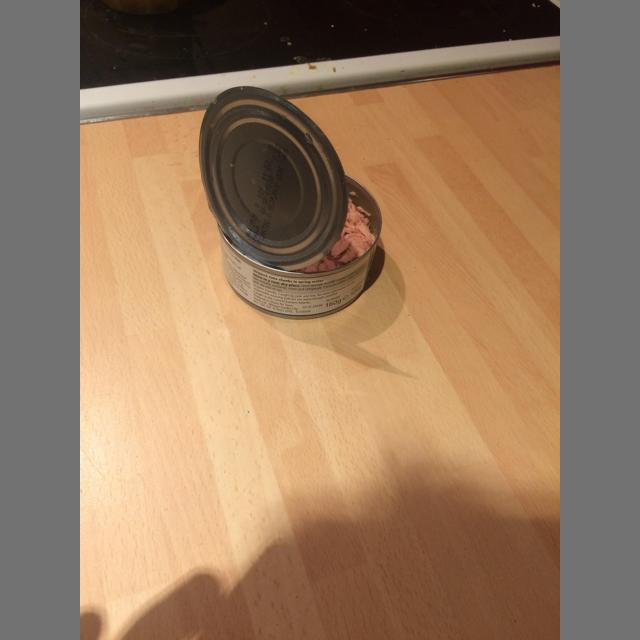litter: (199, 86, 382, 320), (299, 198, 375, 272)
